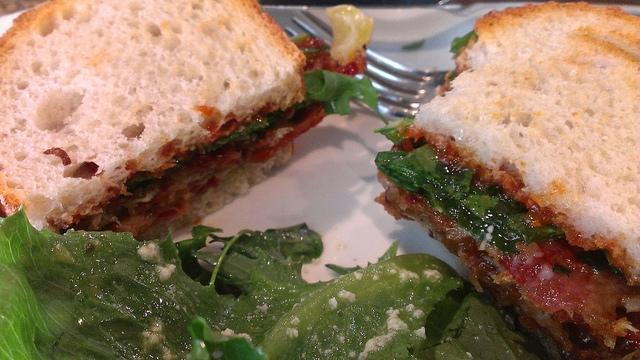lettuce: (0, 202, 543, 360), (374, 142, 566, 254), (204, 68, 390, 154), (449, 30, 479, 60)
